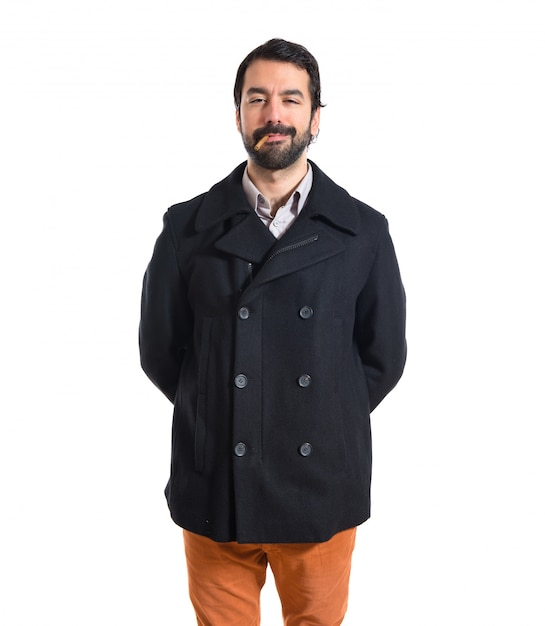cigarette: (251, 134, 272, 150)
